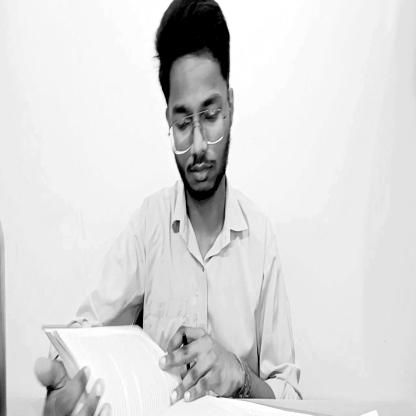Normal: (154, 4, 238, 206)
